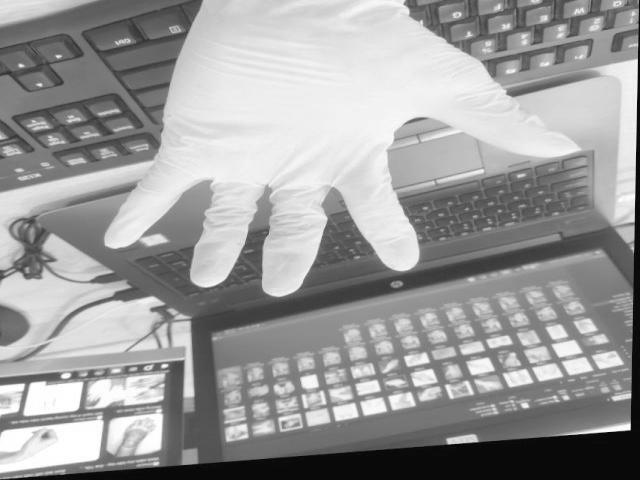gloved: (101, 0, 580, 296)
